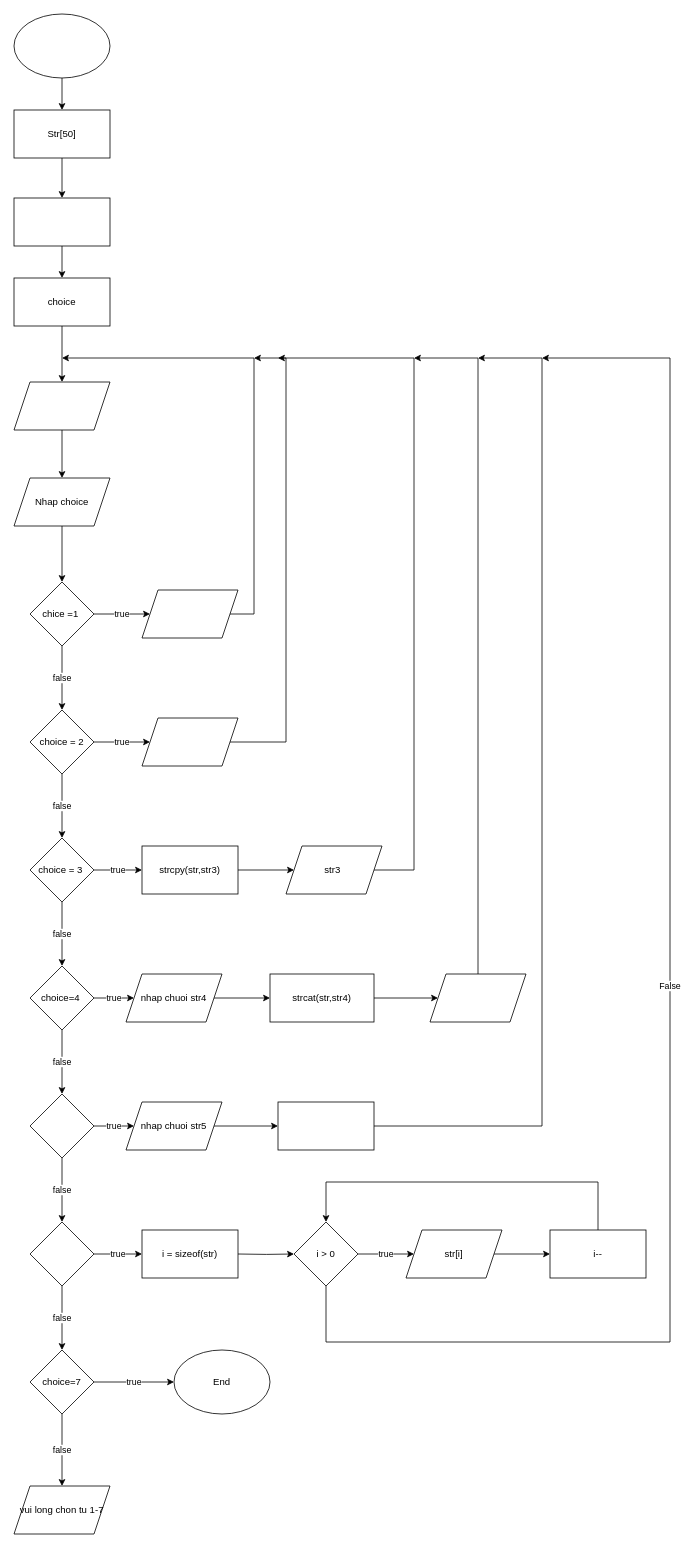
The diagram is 694 pixels wide and 1548 high, and some of its shapes have lost their labels. Here are the shapes that lost their labels. From the top down, the centre of each, then its label:
At point (61, 45): "Starts".
At point (61, 221): "Str3[50] ,str4[50] , str5[50]".
At point (61, 405): "MENU".
At point (189, 613): "Nhap vao chuoi".
At point (189, 741): "In ra chuoi".
At point (477, 997): "in str".
At point (61, 1125): "choice=5".
At point (325, 1125): "strcmp(str,str5)".
At point (61, 1253): "choice=6".
